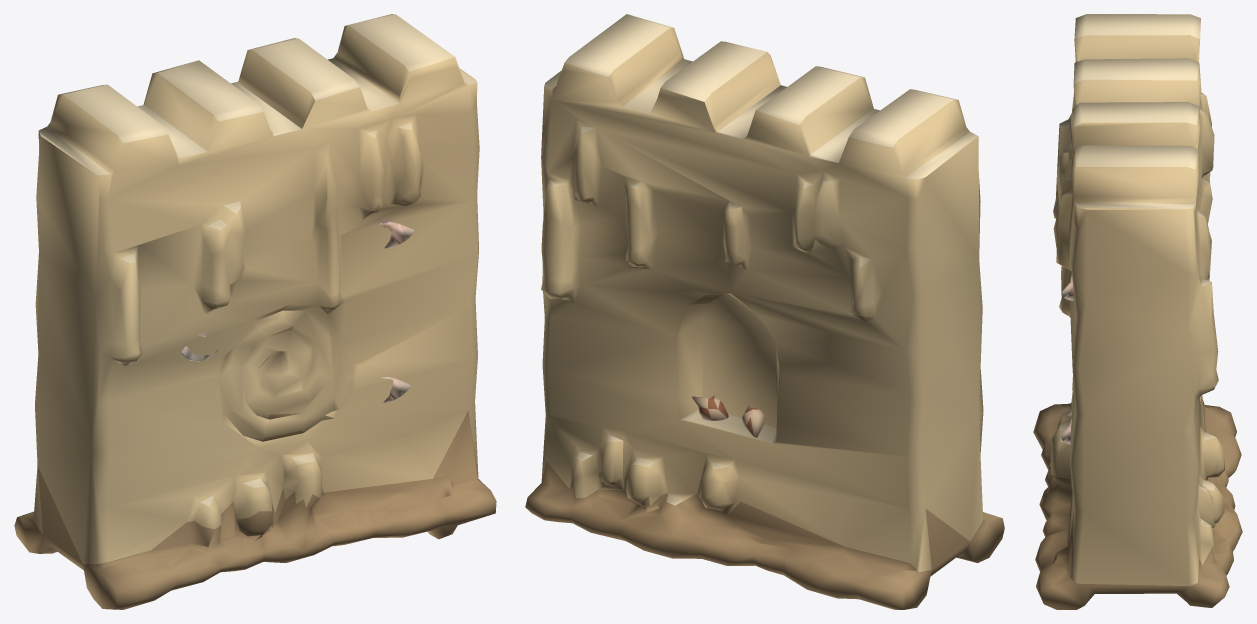
The model's file is shore_castle_wall_c_lod1.glb.
3 views of the same model, side by side, from view 1: azimuth 30°, elevation 25°; view 2: azimuth 150°, elevation 25°; view 3: azimuth 270°, elevation 25° (orthographic). The views are drawn at different scales.
Parts seen in each view (by area): view 1: shore_castle_wall_c.001; view 2: shore_castle_wall_c.001; view 3: shore_castle_wall_c.001.
Part boxes in pixels (x1,y1,x2,y2): shore_castle_wall_c.001: (14,14,496,609); shore_castle_wall_c.001: (525,14,1004,609); shore_castle_wall_c.001: (1033,14,1242,609).
Bounding box in the file's own units: 10.03 × 11.79 × 4.98.
